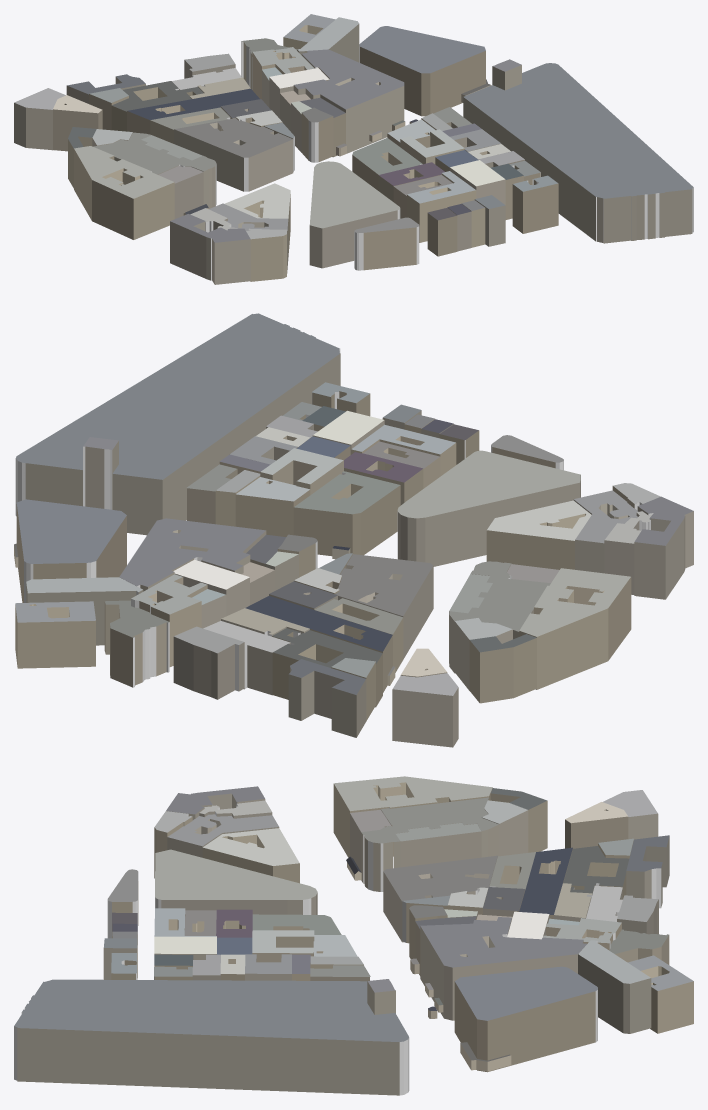
3 views of the same model, one above another, from view 1: azimuth 30°, elevation 25°; view 2: azimuth 150°, elevation 25°; view 3: azimuth 270°, elevation 25° (orthographic). The views are drawn at different scales.
Visible parts, largest first — view 1: tuile; view 2: tuile; view 3: tuile.
Boxes of the visible parts, bbox=[...] form: tuile: bbox=[14, 14, 693, 284]; tuile: bbox=[14, 313, 693, 747]; tuile: bbox=[14, 776, 693, 1095].
Size of the model in its own units: 290 by 39.99 by 308.
